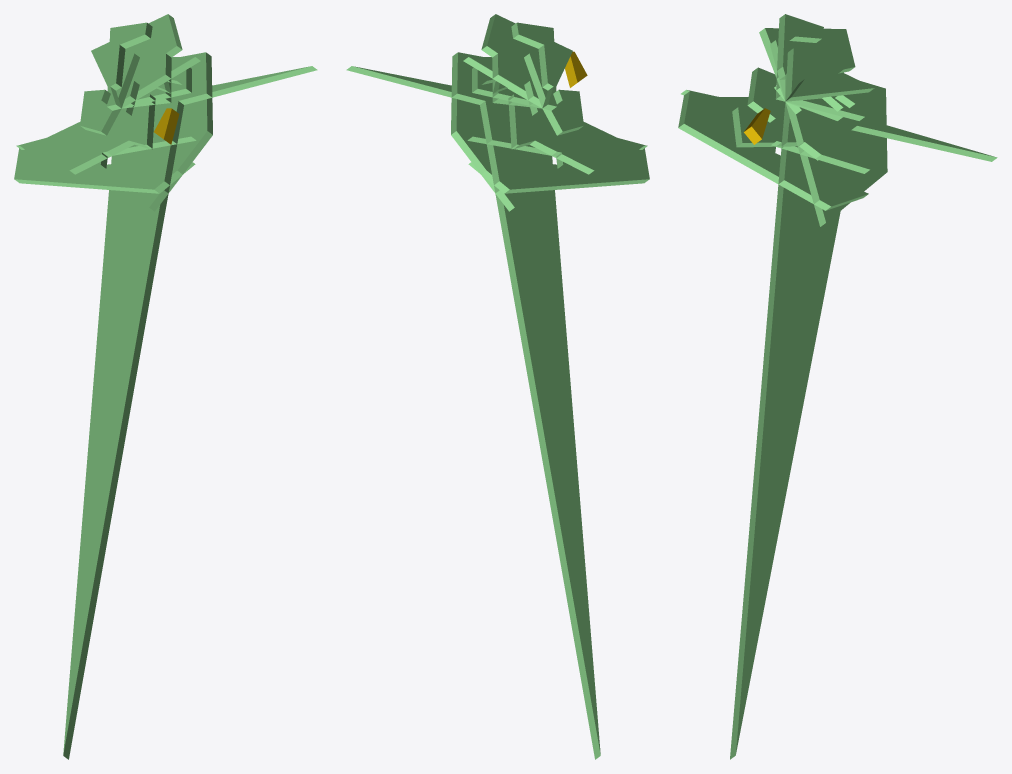
File: approved_cadastre.glb
The picture shows the model from 3 angles, left to right: view 1: azimuth 30°, elevation 25°; view 2: azimuth 150°, elevation 25°; view 3: azimuth 330°, elevation 25°; orthographic projection. The views are drawn at different scales.
Visible parts, largest first — view 1: AI_Unit_12_Floor_1, AI_Unit_11_Floor_1, AI_Unit_3_Floor_1, AI_Unit_9_Floor_1, AI_Unit_5_Floor_1, AI_Unit_6_Floor_1, AI_Unit_2_Floor_1, AI_Unit_10_Floor_1, AI_Unit_8_Floor_1, AI_Unit_4_Floor_1, AI_Unit_1_Floor_2; view 2: AI_Unit_12_Floor_1, AI_Unit_11_Floor_1, AI_Unit_3_Floor_1, AI_Unit_9_Floor_1, AI_Unit_5_Floor_1, AI_Unit_6_Floor_1, AI_Unit_10_Floor_1, AI_Unit_2_Floor_1, AI_Unit_8_Floor_1, AI_Unit_4_Floor_1; view 3: AI_Unit_12_Floor_1, AI_Unit_11_Floor_1, AI_Unit_3_Floor_1, AI_Unit_9_Floor_1, AI_Unit_6_Floor_1, AI_Unit_8_Floor_1, AI_Unit_5_Floor_1, AI_Unit_2_Floor_1, AI_Unit_10_Floor_1, AI_Unit_4_Floor_1, AI_Unit_7_Floor_1.
Boxes of the visible parts, x1,y1,x2,y2 form: AI_Unit_12_Floor_1: (63, 66, 317, 759); AI_Unit_11_Floor_1: (14, 108, 196, 193); AI_Unit_3_Floor_1: (119, 52, 212, 211); AI_Unit_9_Floor_1: (91, 14, 182, 108); AI_Unit_5_Floor_1: (65, 94, 155, 174); AI_Unit_6_Floor_1: (101, 57, 200, 108); AI_Unit_2_Floor_1: (80, 89, 121, 135); AI_Unit_10_Floor_1: (107, 22, 152, 110); AI_Unit_8_Floor_1: (116, 67, 191, 108); AI_Unit_4_Floor_1: (116, 53, 139, 107); AI_Unit_1_Floor_2: (154, 108, 179, 144); AI_Unit_12_Floor_1: (346, 66, 600, 759); AI_Unit_11_Floor_1: (467, 109, 649, 193); AI_Unit_3_Floor_1: (451, 52, 544, 211); AI_Unit_9_Floor_1: (481, 14, 572, 108); AI_Unit_5_Floor_1: (508, 94, 598, 174); AI_Unit_6_Floor_1: (463, 57, 562, 108); AI_Unit_10_Floor_1: (511, 22, 556, 110); AI_Unit_2_Floor_1: (542, 89, 583, 135); AI_Unit_8_Floor_1: (472, 66, 546, 108); AI_Unit_4_Floor_1: (524, 53, 546, 107); AI_Unit_12_Floor_1: (730, 104, 997, 759); AI_Unit_11_Floor_1: (678, 89, 870, 210); AI_Unit_3_Floor_1: (785, 78, 887, 226); AI_Unit_9_Floor_1: (759, 28, 855, 120); AI_Unit_6_Floor_1: (770, 40, 874, 101); AI_Unit_8_Floor_1: (785, 71, 865, 120); AI_Unit_5_Floor_1: (732, 100, 825, 160); AI_Unit_2_Floor_1: (747, 67, 785, 122); AI_Unit_10_Floor_1: (775, 14, 823, 101); AI_Unit_4_Floor_1: (785, 48, 810, 101); AI_Unit_7_Floor_1: (774, 79, 854, 111).
Size of the model in its own units: 91.25 by 210 by 24.
